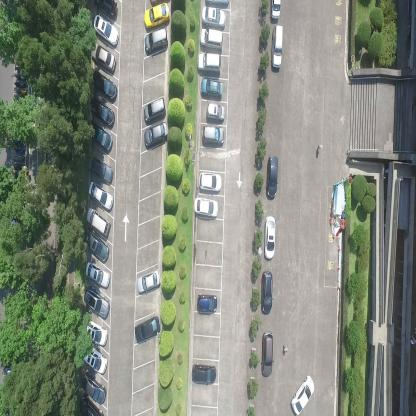car: (291, 372, 315, 415), (82, 226, 109, 264), (82, 285, 110, 319), (133, 313, 161, 346), (86, 179, 113, 212), (86, 118, 112, 152), (90, 68, 116, 102), (81, 371, 107, 404), (90, 41, 116, 74), (93, 14, 119, 47), (88, 97, 115, 128), (81, 340, 106, 373), (86, 156, 114, 185), (143, 2, 169, 32), (85, 208, 111, 238), (143, 25, 168, 56), (143, 119, 168, 150), (84, 260, 110, 289), (136, 268, 162, 296), (84, 320, 108, 349), (143, 96, 166, 125), (265, 152, 278, 200), (191, 362, 217, 386), (198, 169, 222, 194), (264, 215, 277, 260), (261, 331, 273, 379), (271, 26, 283, 70), (261, 270, 273, 314), (194, 197, 218, 219), (199, 26, 223, 48), (201, 6, 225, 28), (79, 395, 105, 415), (197, 292, 218, 315), (201, 124, 224, 145), (198, 52, 221, 72), (201, 78, 223, 98), (95, 0, 116, 20), (206, 102, 225, 121), (270, 0, 281, 21), (204, 0, 230, 8)
